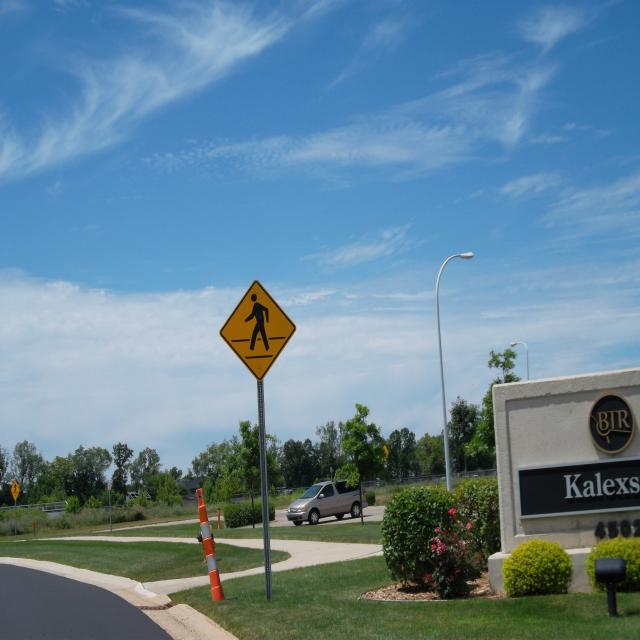warning: (216, 279, 301, 385)
